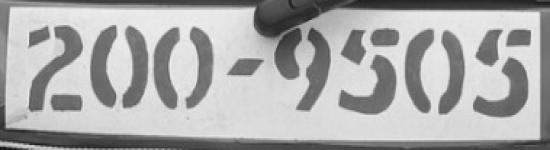-: (223, 47, 268, 93)
0: (148, 13, 218, 128), (402, 12, 470, 129), (86, 14, 150, 124)
2: (18, 16, 88, 125)
5: (469, 14, 536, 134), (334, 16, 402, 123)
9: (270, 20, 336, 119)
